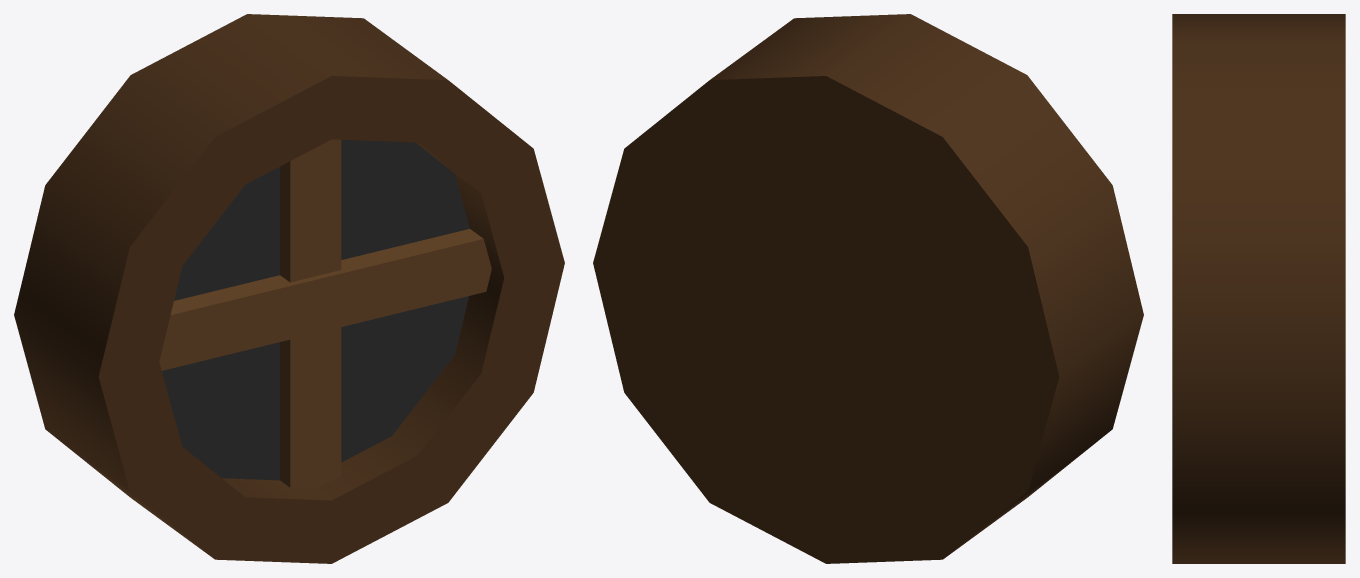
Rendered from Round Window.glb.
3 views of the same model, side by side, from view 1: azimuth 30°, elevation 25°; view 2: azimuth 150°, elevation 25°; view 3: azimuth 270°, elevation 25° (orthographic). The views are drawn at different scales.
Visible parts, largest first — view 1: Round Window; view 2: Round Window; view 3: Round Window.
Part boxes in pixels (<box>): Round Window: <box>14,14,564,563</box>; Round Window: <box>593,14,1143,563</box>; Round Window: <box>1172,14,1345,563</box>.
Bounding box in the file's own units: 0.379 × 0.379 × 0.1191.
